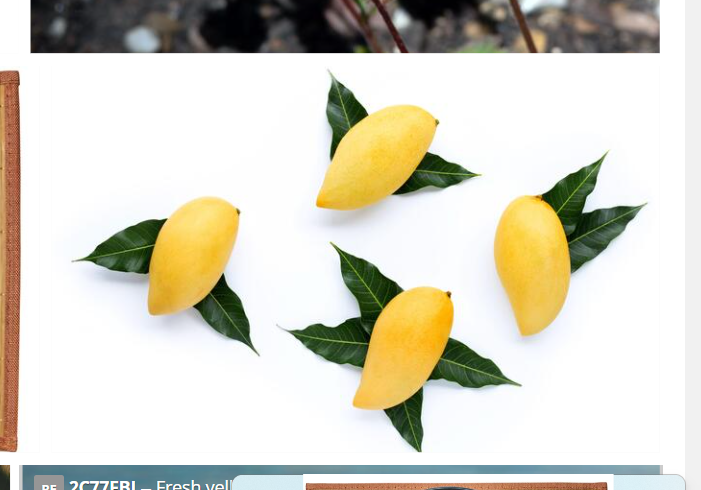mango: (318, 104, 437, 211), (354, 286, 452, 413), (146, 197, 242, 318), (494, 192, 570, 334)
